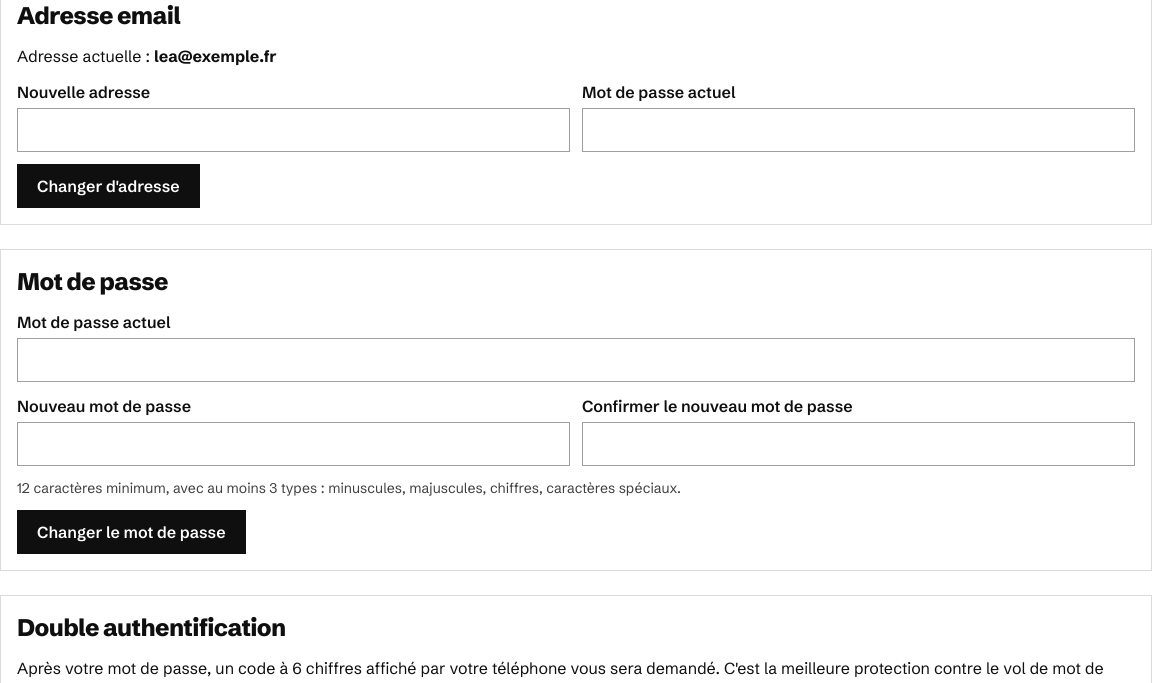
Test: AccountSettings : mot de passe › mot de passe trop faible : erreur de validation sans appel
(page scrolled)
Type "Ancien-mot-2026" into the 2nd password field labelled "Mot de passe actuel".
click(576, 360); type("Ancien-mot-2026")  # box [17, 338, 1135, 382]
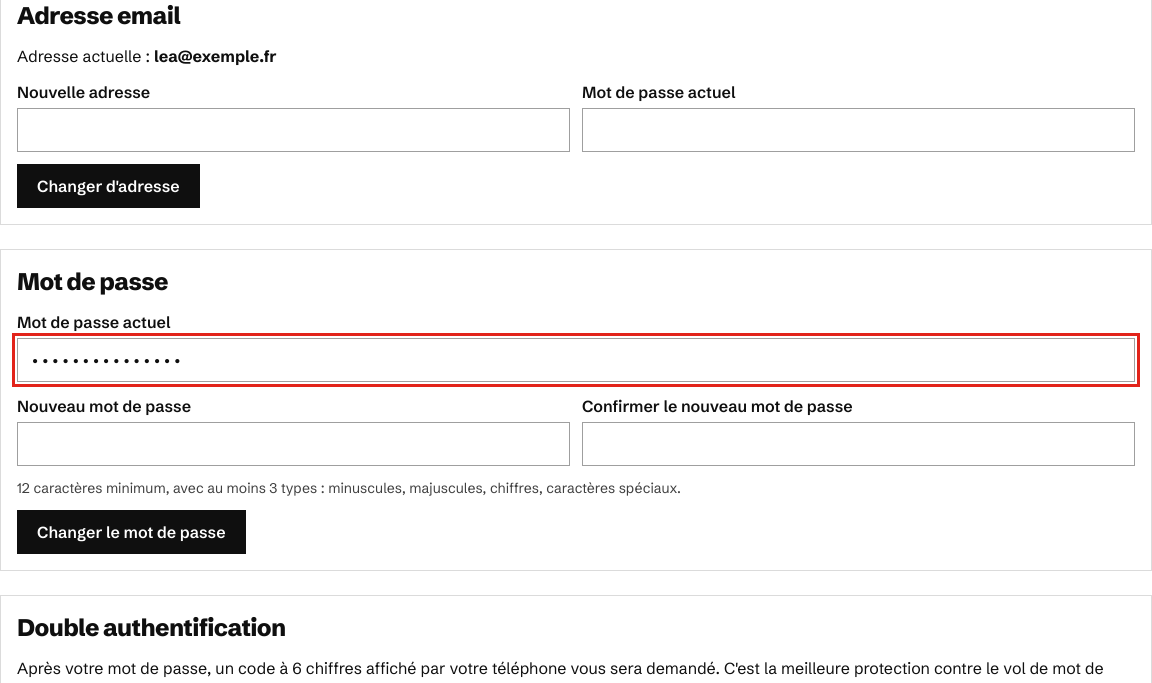
Type "court" into the password field labelled "Nouveau mot de passe".
click(294, 444); type("court")  # box [17, 422, 570, 466]
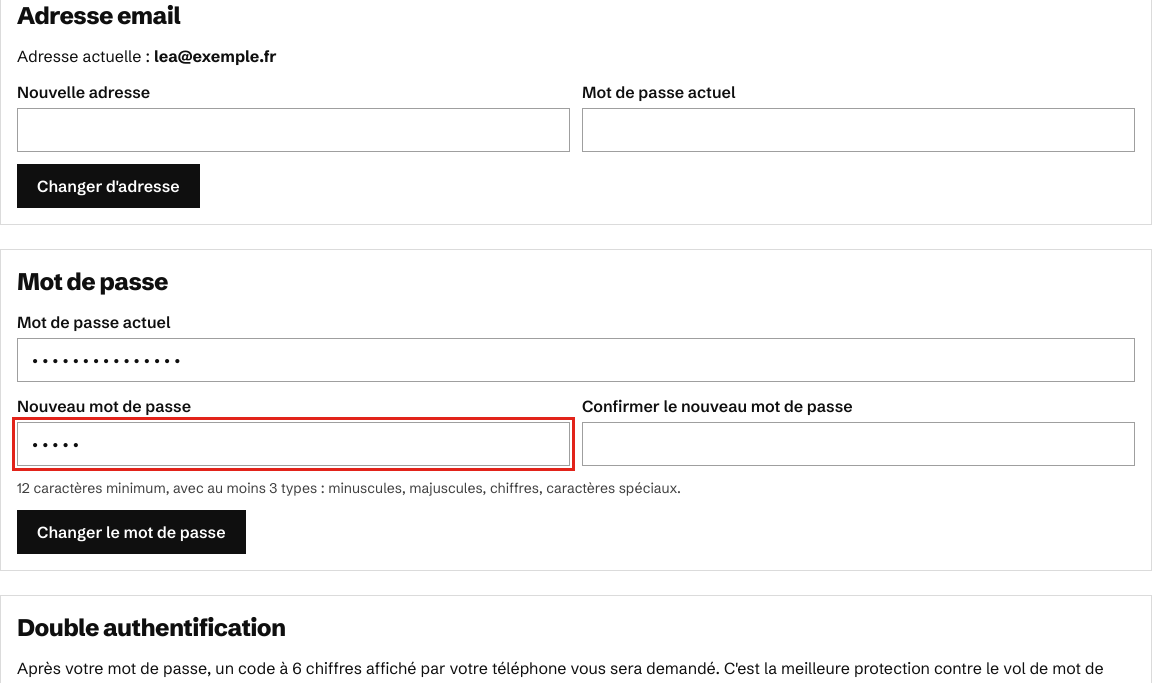
Type "court" into the password field labelled "Confirmer le nouveau mot de passe".
click(858, 444); type("court")  # box [582, 422, 1135, 466]
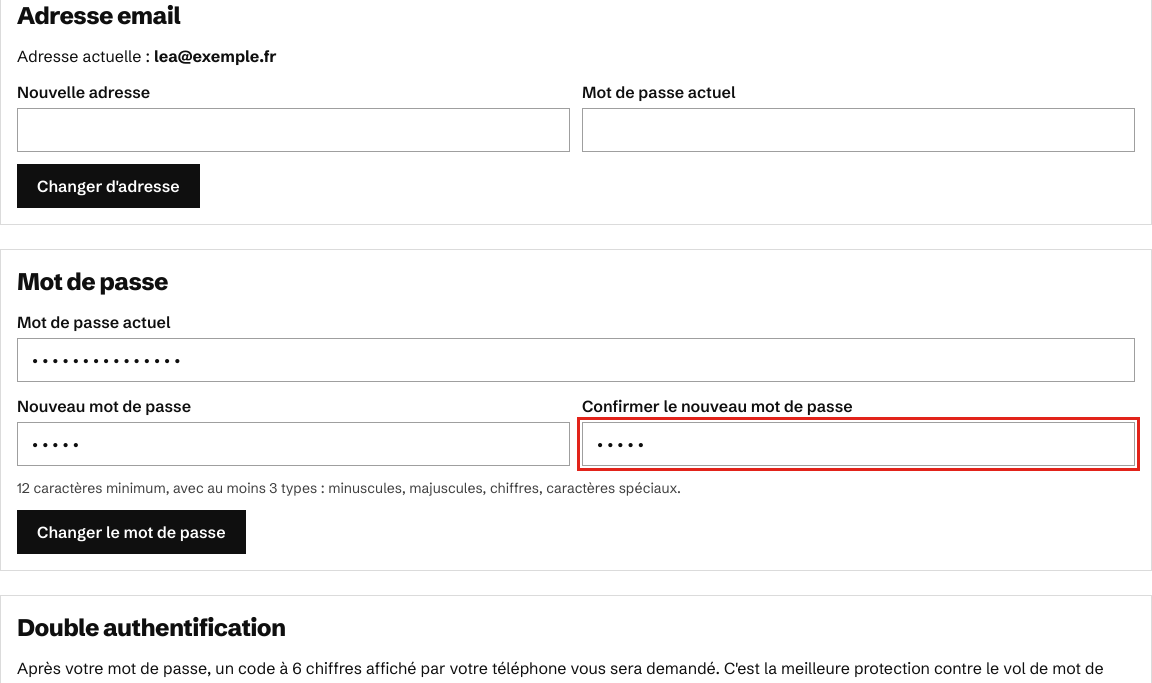
Click the button "Changer le mot de passe".
click(131, 532)  # box [17, 510, 246, 554]
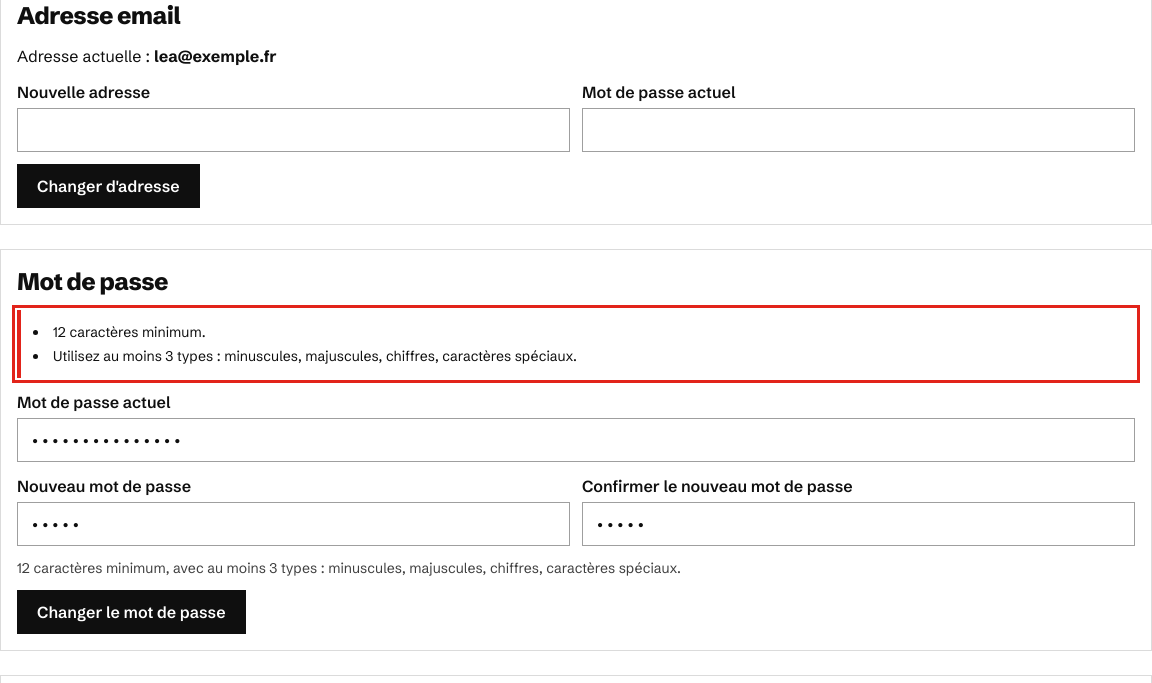
Expected: the message is shown, [17, 310, 1135, 378]
